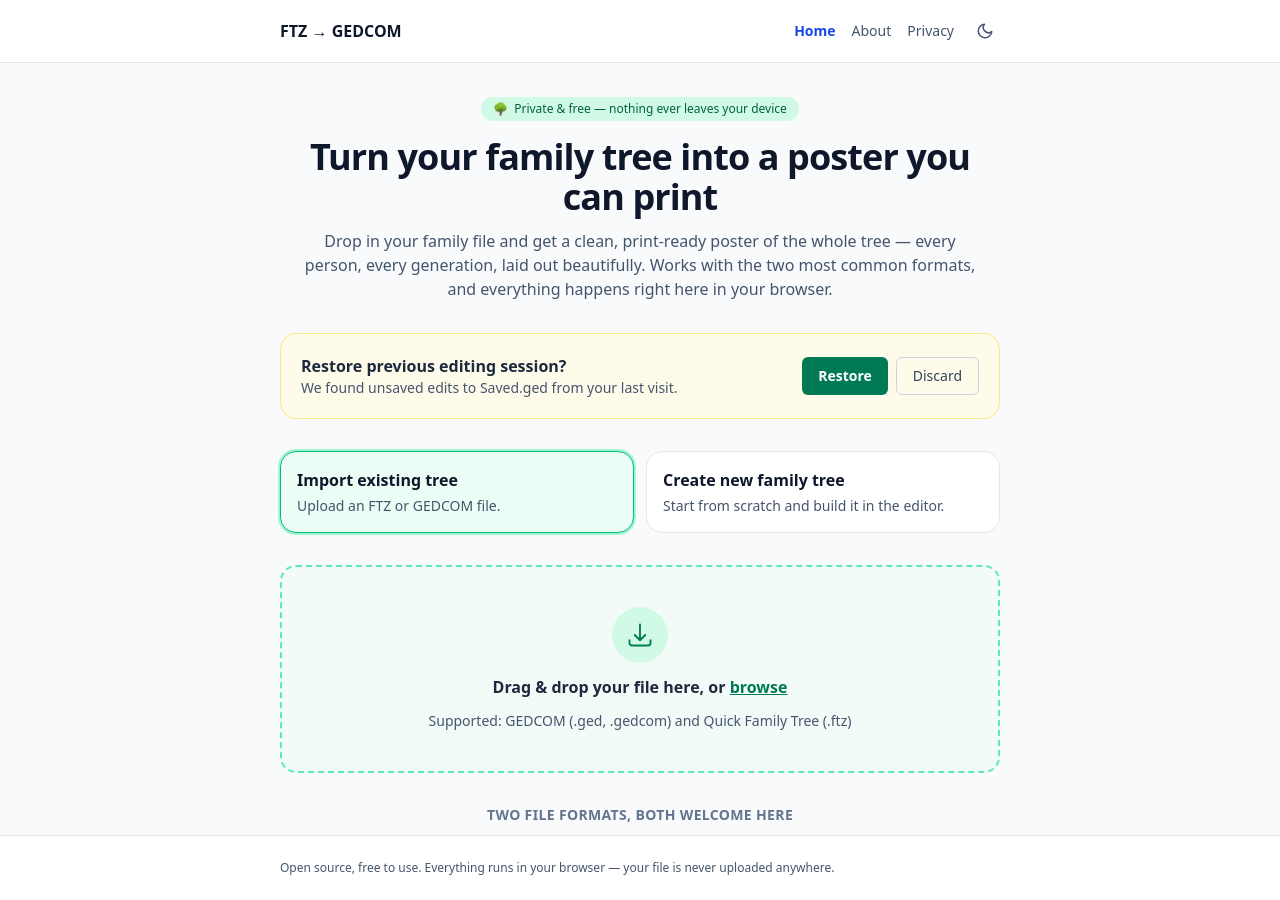
Test: Autosave restore › discards a saved session and hides the banner
Expected: the text "Restore previous editing session?" is shown, [301, 355, 566, 377]
Click the button "Discard": (937, 376) [896, 357, 979, 395]
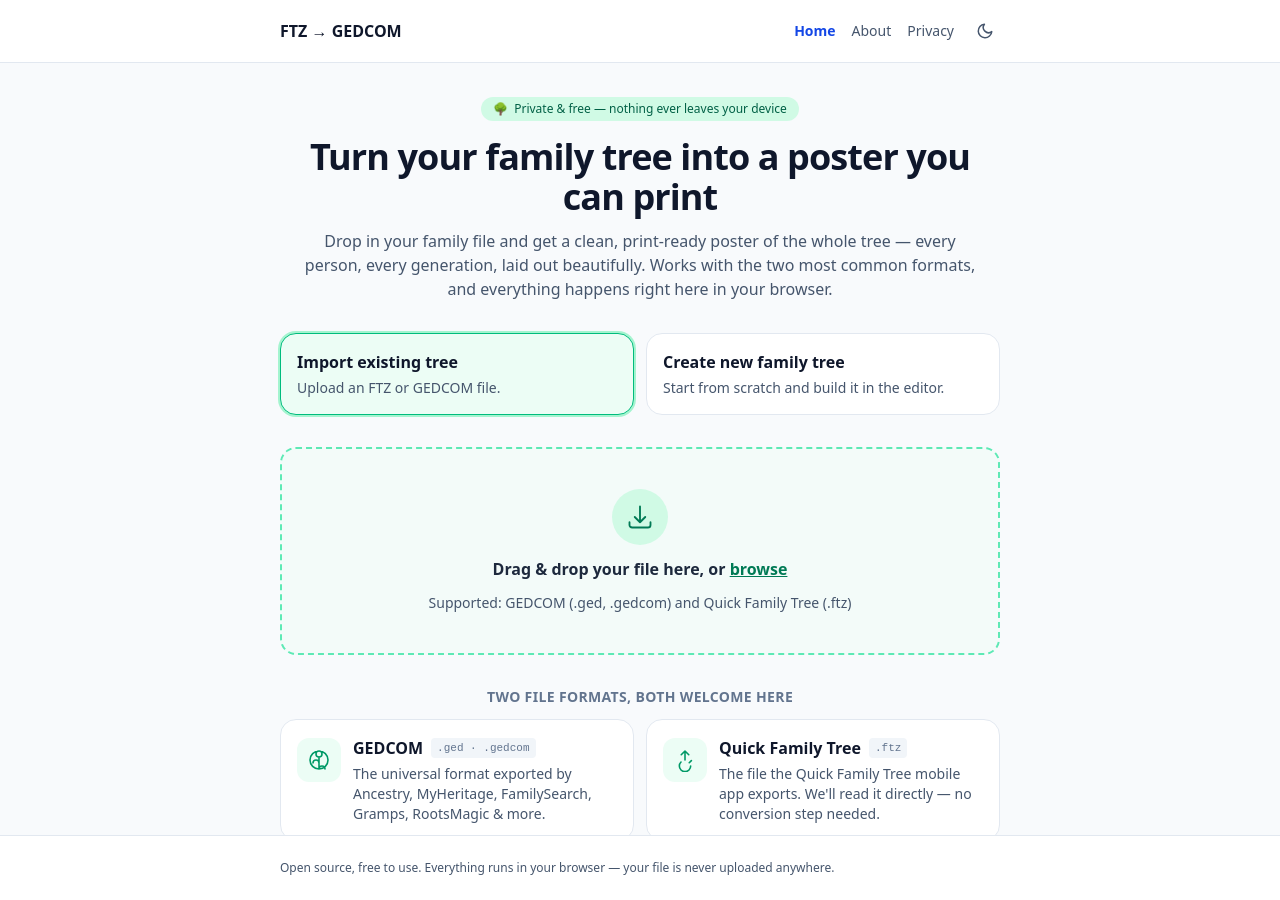
Expected: the text "Restore previous editing session" is gone
